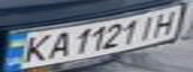1: (118, 17, 145, 45), (69, 26, 93, 56), (87, 24, 109, 53)
2: (103, 20, 127, 50)
A: (42, 29, 72, 60)
H: (148, 8, 184, 38)
I: (133, 11, 163, 42)
K: (15, 33, 54, 65)
